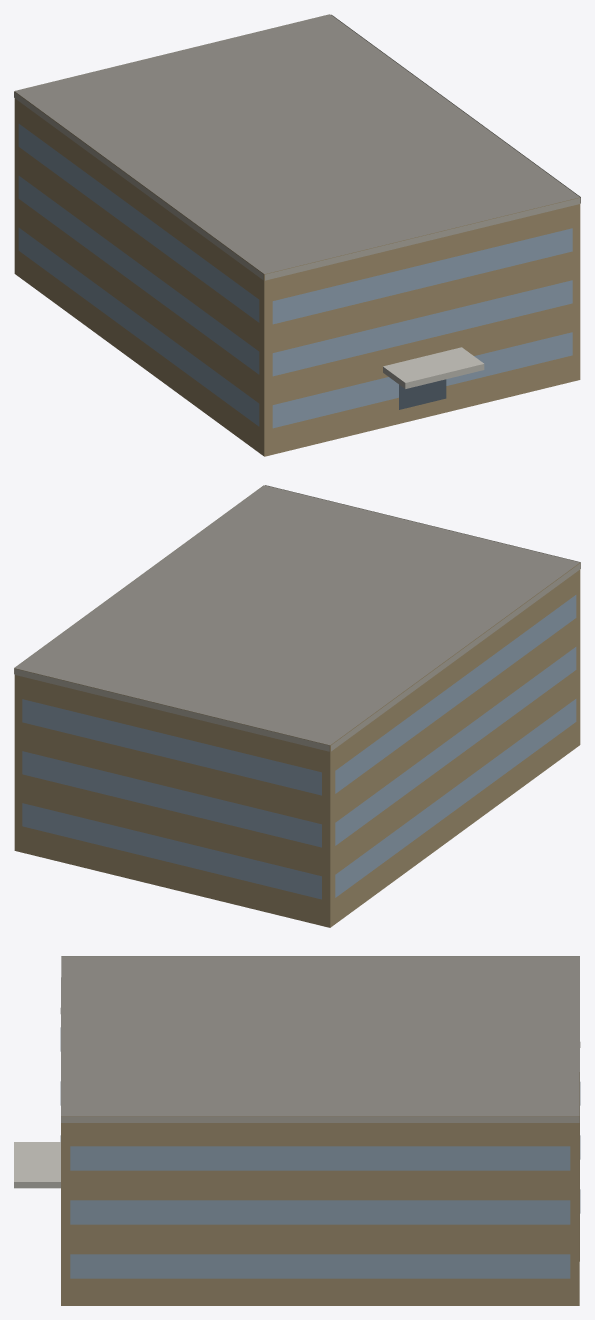
File: little-rock-public-schools-office.glb
3 views of the same model, one above another, from view 1: azimuth 30°, elevation 25°; view 2: azimuth 150°, elevation 25°; view 3: azimuth 270°, elevation 25° (orthographic). The views are drawn at different scales.
Visible parts, largest first — view 1: little_rock_public_schools_office; view 2: little_rock_public_schools_office; view 3: little_rock_public_schools_office.
Part boxes in pixels (bbox=[...]): little_rock_public_schools_office: bbox=[14, 14, 580, 456]; little_rock_public_schools_office: bbox=[14, 485, 580, 927]; little_rock_public_schools_office: bbox=[14, 956, 580, 1305].
Bounding box in the file's own units: 24.27 × 13.35 × 36.18.
